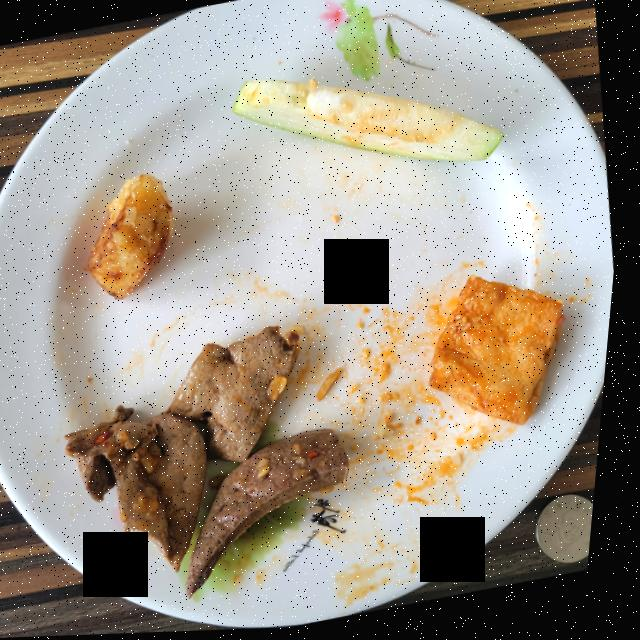coin: (547, 499, 603, 568)
creamy tofu: (437, 279, 572, 429)
fried potato: (93, 175, 178, 300)
guava -sliced-: (236, 81, 505, 165)
pig liver: (74, 328, 358, 598)
